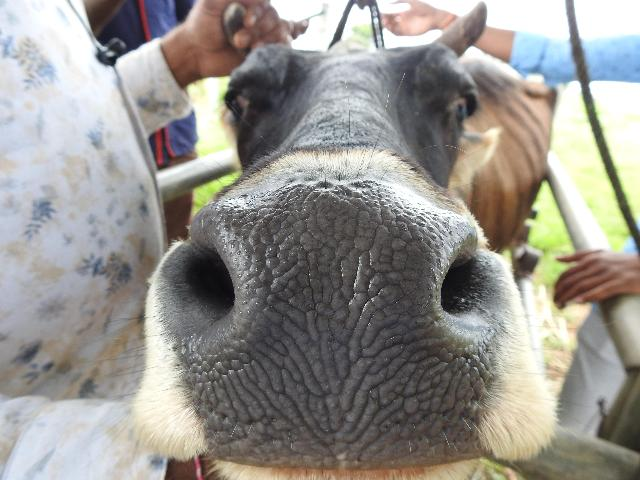Muzzle: (238, 208, 434, 452)
